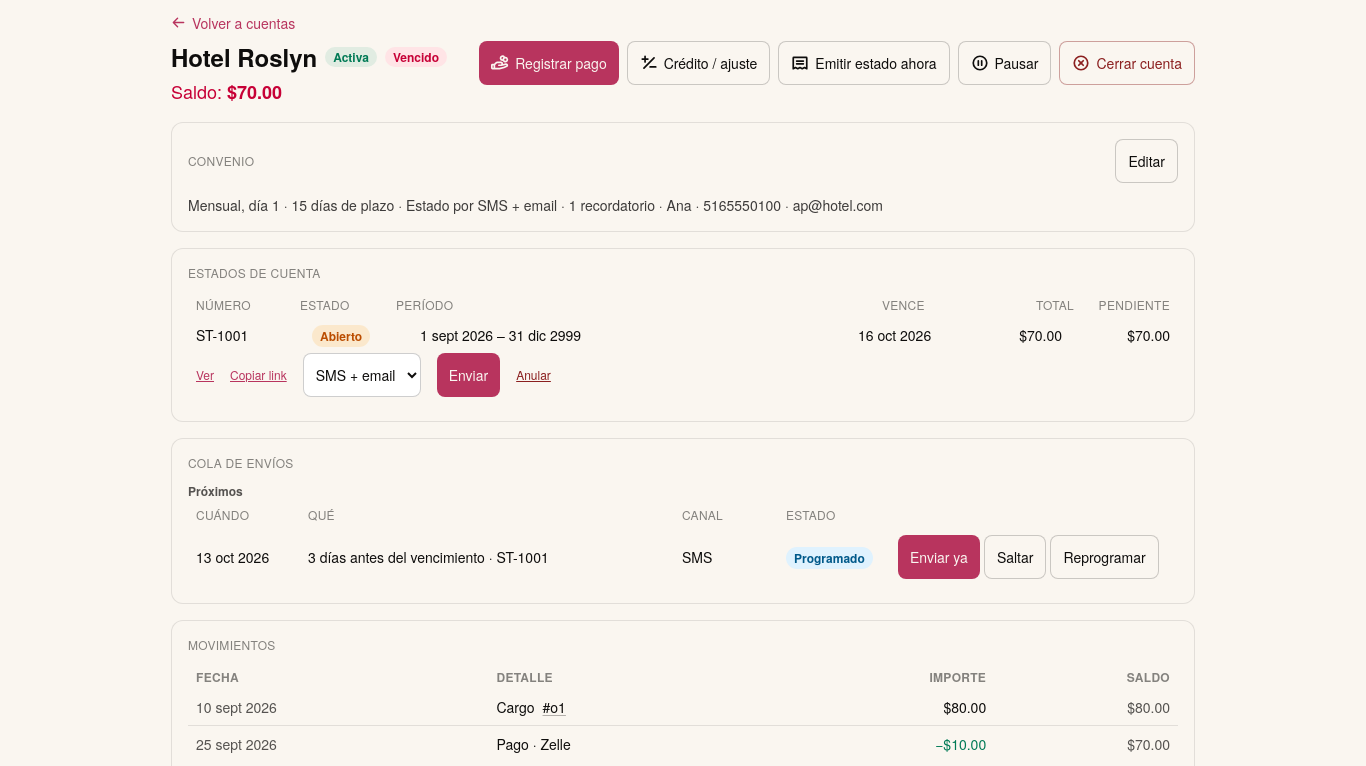
AccountDetail › when the server issues nothing › explains that a statement already closed today
This screenshot has width=1366, height=766.
Click the button "Emitir estado ahora". click: (864, 62)
box: [778,40,950,84]
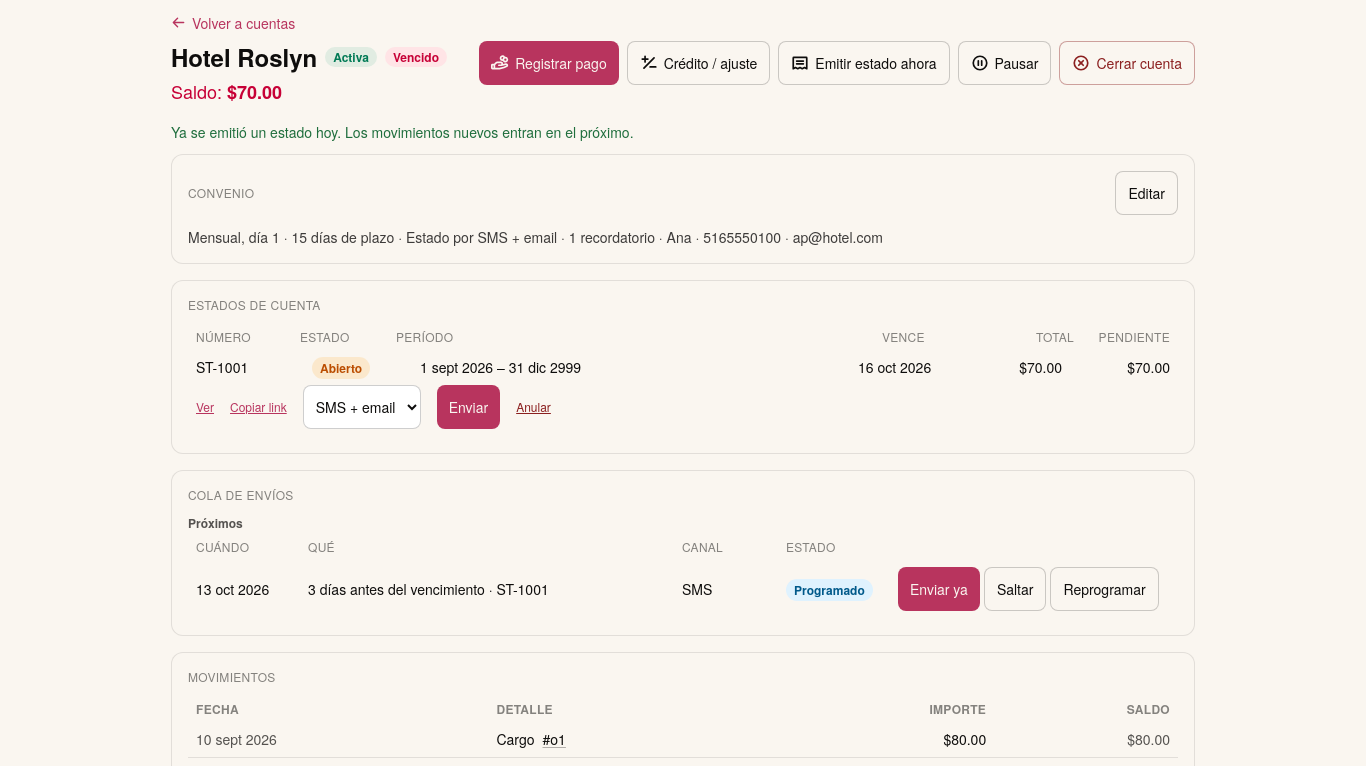
Now the text "Ya se emitió un estado hoy. Los movimientos nuevos entran en el próximo." is shown, box [171,122,634,142]
